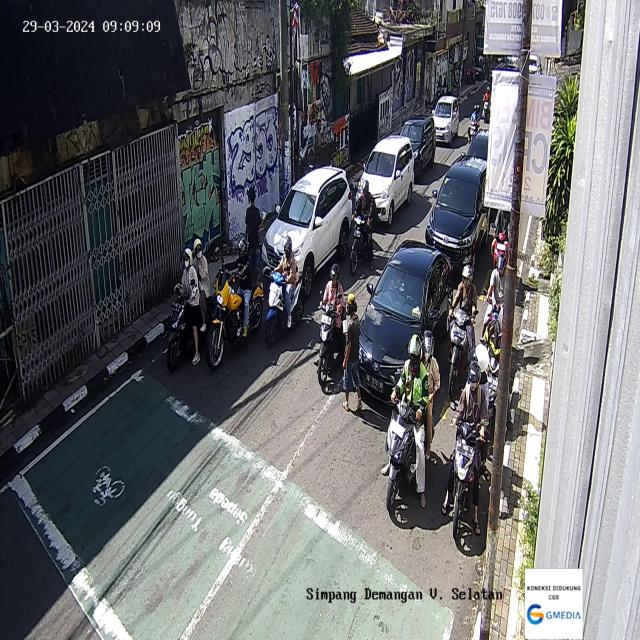car: (357, 238, 453, 410), (261, 165, 353, 299), (425, 152, 489, 274), (357, 133, 415, 227), (398, 115, 436, 182), (432, 94, 459, 146)
motorcycle: (384, 330, 441, 511), (206, 240, 264, 370), (448, 360, 488, 538), (167, 237, 213, 371), (262, 234, 305, 348), (479, 306, 513, 441), (446, 264, 478, 402), (315, 260, 347, 387), (349, 181, 377, 275), (482, 253, 507, 345), (490, 209, 513, 276), (467, 103, 481, 143), (482, 85, 491, 124)
